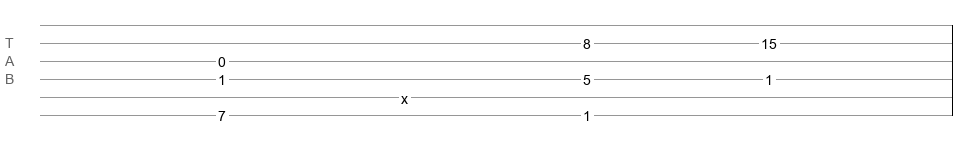0: (218, 54, 226, 64)
1: (218, 72, 226, 82), (583, 108, 591, 118), (765, 72, 773, 82)
15: (761, 36, 777, 46)
5: (583, 72, 591, 82)
7: (218, 108, 226, 118)
8: (583, 36, 591, 46)
x: (401, 91, 408, 99)
